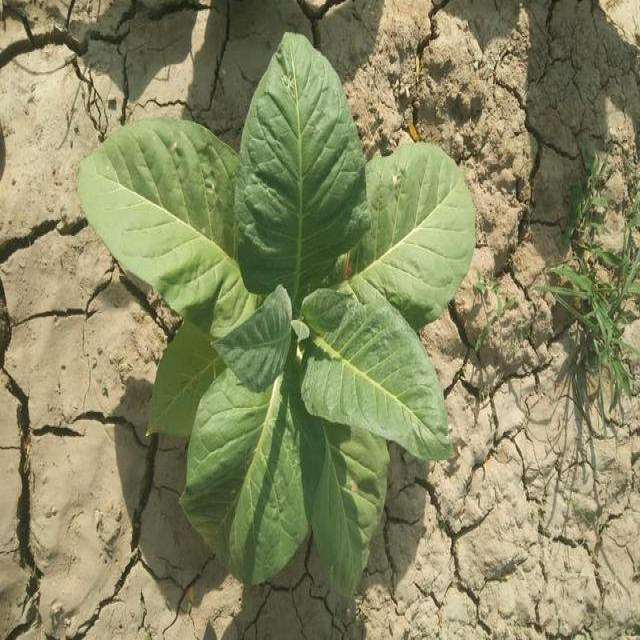crop: (84, 34, 472, 578)
